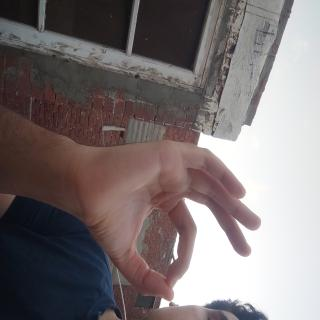Space: (95, 73, 226, 320)
